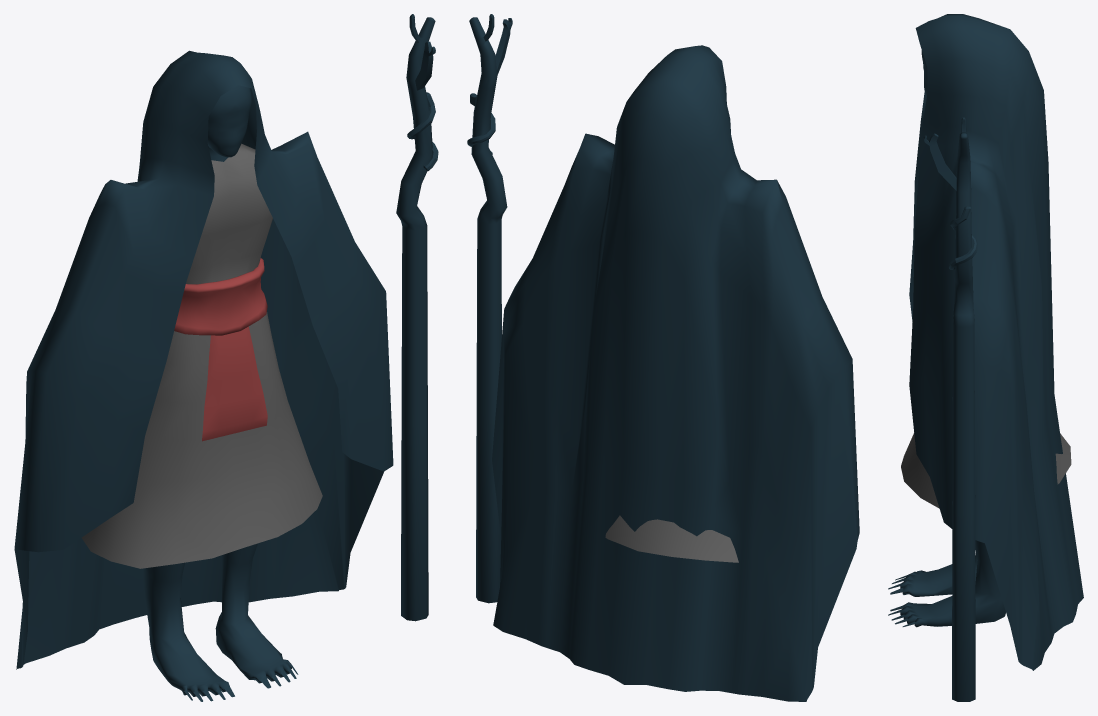
Rendered from HighSpiritDraft.fbx.
3 views of the same model, side by side, from view 1: azimuth 30°, elevation 25°; view 2: azimuth 150°, elevation 25°; view 3: azimuth 270°, elevation 25° (orthographic). The views are drawn at different scales.
Parts seen in each view (by area): view 1: highspirit_draft_whole, staff3; view 2: highspirit_draft_whole, staff3; view 3: highspirit_draft_whole, staff3.
Boxes of the visible parts, <box> form: highspirit_draft_whole: <box>14,50,393,701</box>; staff3: <box>396,14,438,621</box>; highspirit_draft_whole: <box>492,45,859,701</box>; staff3: <box>467,14,512,603</box>; highspirit_draft_whole: <box>888,14,1083,670</box>; staff3: <box>923,117,977,701</box>.
Bounding box in the file's own units: 12.11 × 17.23 × 5.21.
